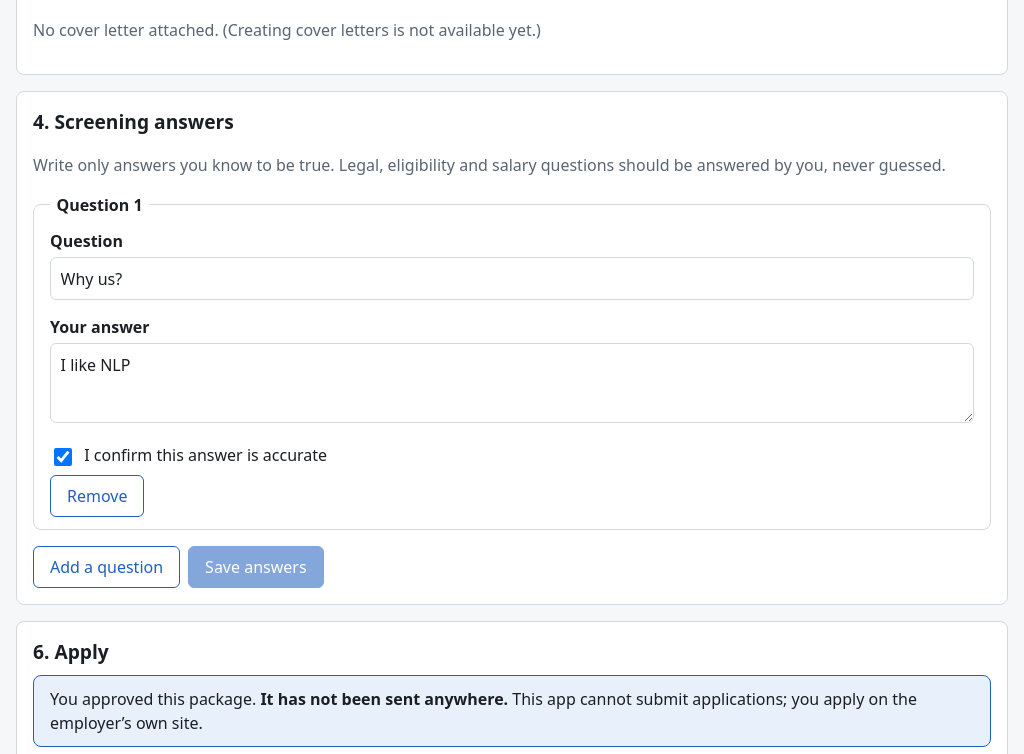
Scenario: application review › editing answers of an APPROVED application warns first, then tells the user the approval was withdrawn
This screenshot has width=1024, height=754.
(page scrolled)
Expected: the text "It has not been sent anywhere." is shown, left=260, top=688, right=508, bottom=710
Type " a lot" into the text box labelled "Your answer" at (512, 383), box left=50, top=343, right=974, bottom=423
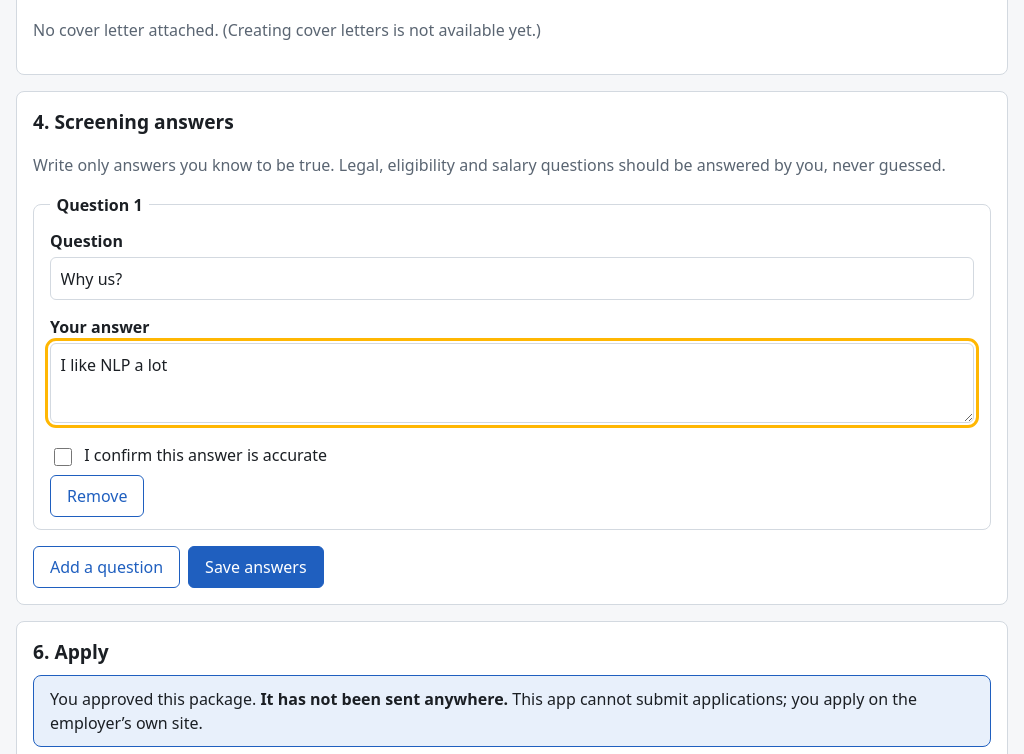
Click the button "Save answers" at (256, 567), box left=188, top=546, right=324, bottom=588
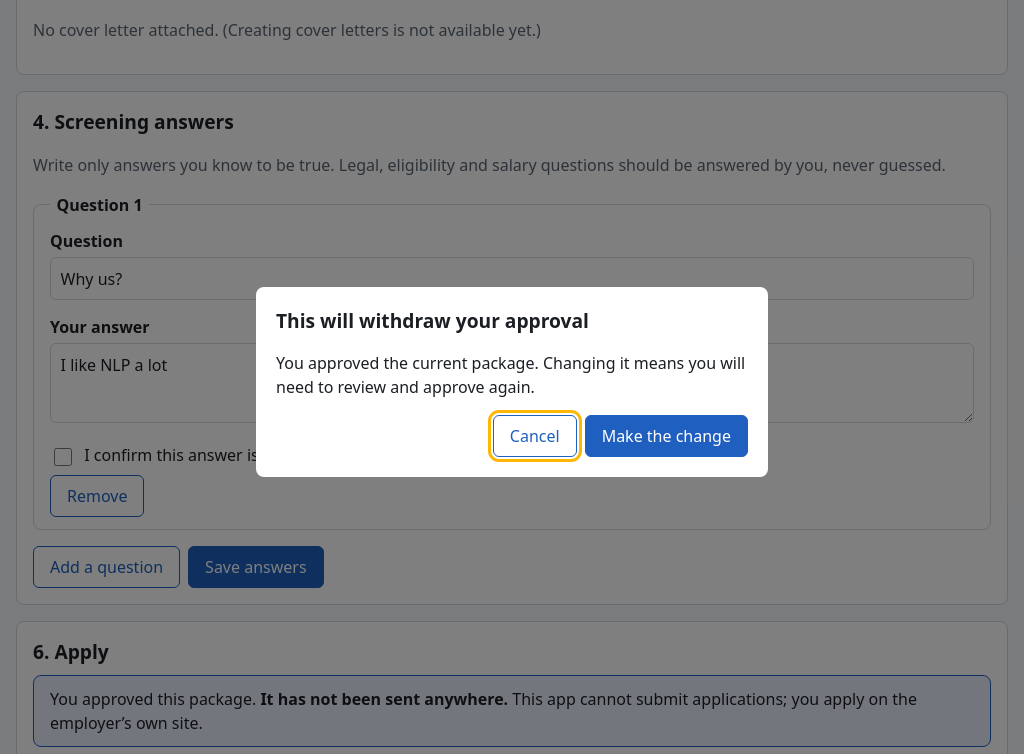
Click the button "Make the change" at (666, 436), box left=585, top=415, right=748, bottom=457
(page scrolled)
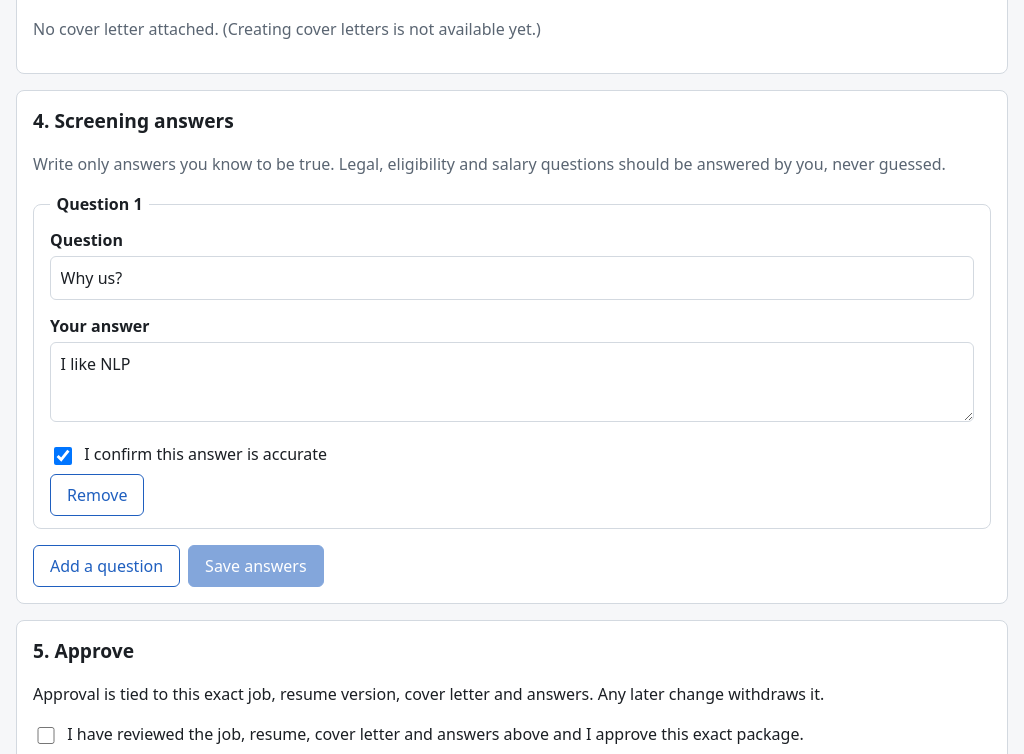
Now the checkbox labelled "I have reviewed" is not checked, box left=37, top=727, right=55, bottom=744
